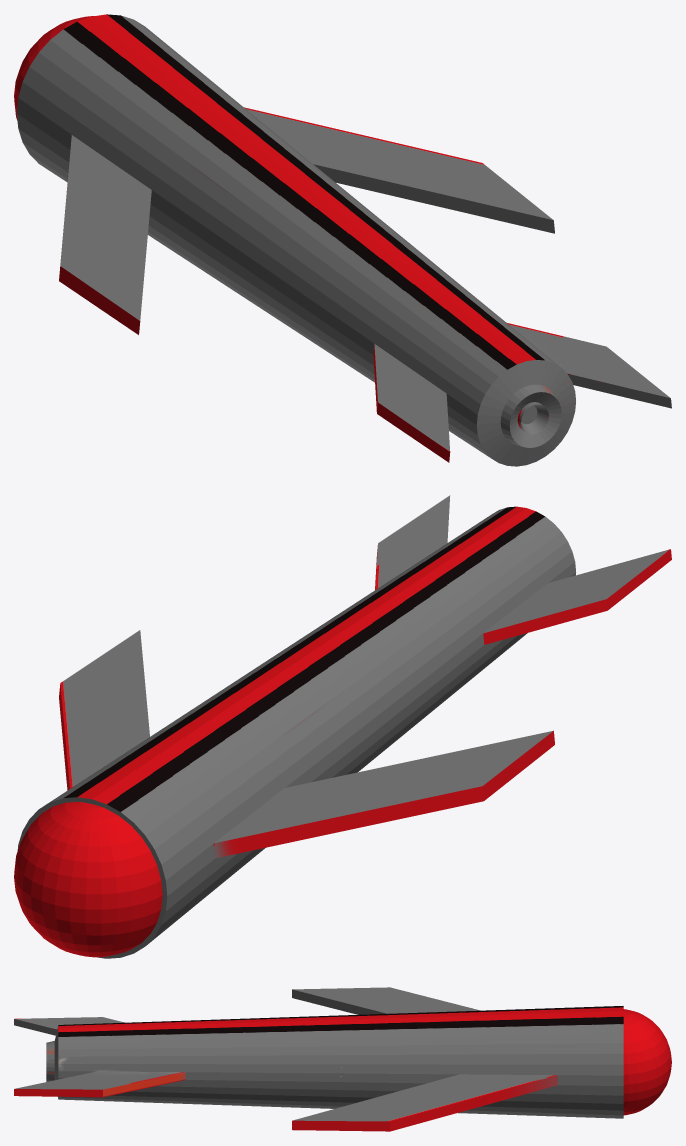
The model's file is rocket.fbx.
The picture shows the model from 3 angles, top to bottom: view 1: azimuth 30°, elevation 25°; view 2: azimuth 150°, elevation 25°; view 3: azimuth 270°, elevation 25°; orthographic projection. The views are drawn at different scales.
Parts seen in each view (by area): view 1: Rocket; view 2: Rocket; view 3: Rocket.
Boxes of the visible parts, x1,y1,x2,y2 form: Rocket: (14, 14, 671, 466); Rocket: (14, 495, 671, 958); Rocket: (14, 987, 671, 1131).
Bounding box in the file's own units: 282 × 582 × 100.
Materials: 1 (1 with a texture image).
